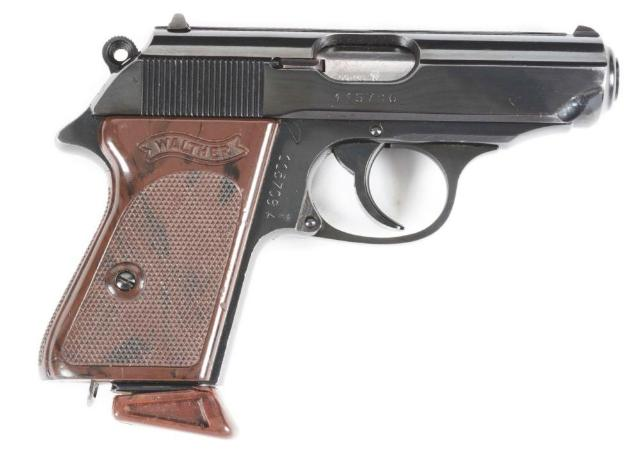handgun: (32, 9, 624, 444)
